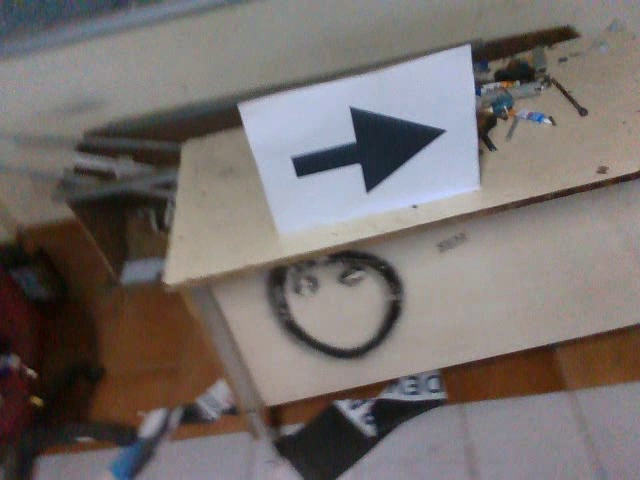Right: (282, 104, 448, 196)
